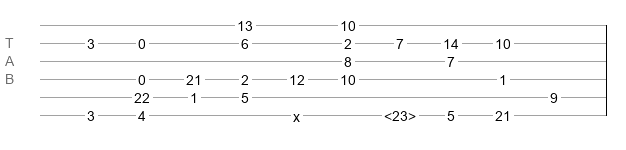0: (138, 72, 146, 82), (138, 36, 146, 46)
1: (190, 90, 198, 100), (499, 72, 507, 82)
10: (340, 18, 356, 28), (340, 72, 356, 82), (495, 36, 511, 46)
12: (289, 72, 305, 82)
13: (237, 18, 253, 28)
14: (443, 36, 459, 46)
2: (241, 72, 249, 82), (344, 36, 352, 46)
21: (186, 72, 202, 82), (495, 108, 511, 118)
22: (134, 90, 150, 100)
3: (87, 36, 95, 46), (87, 108, 95, 118)
4: (138, 108, 146, 118)
5: (241, 90, 249, 100), (447, 108, 455, 118)
6: (241, 36, 249, 46)
7: (396, 36, 404, 46), (447, 54, 455, 64)
8: (344, 54, 352, 64)
9: (550, 90, 558, 100)
harmonic: (384, 108, 416, 118)
x: (293, 109, 300, 117)
